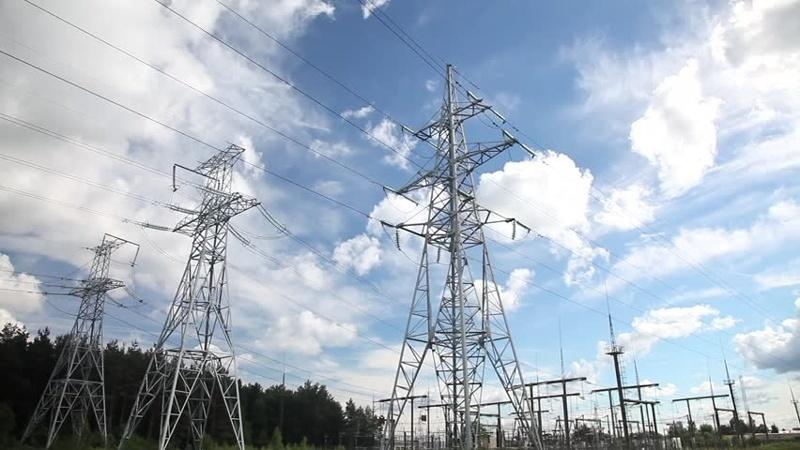power_tower: (366, 52, 565, 445), (155, 132, 266, 444), (19, 233, 117, 444)
